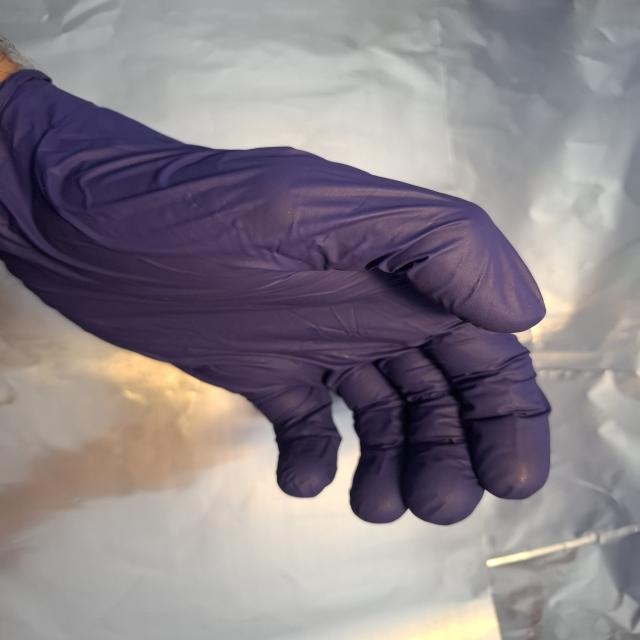glove_on: (0, 68, 559, 530)
